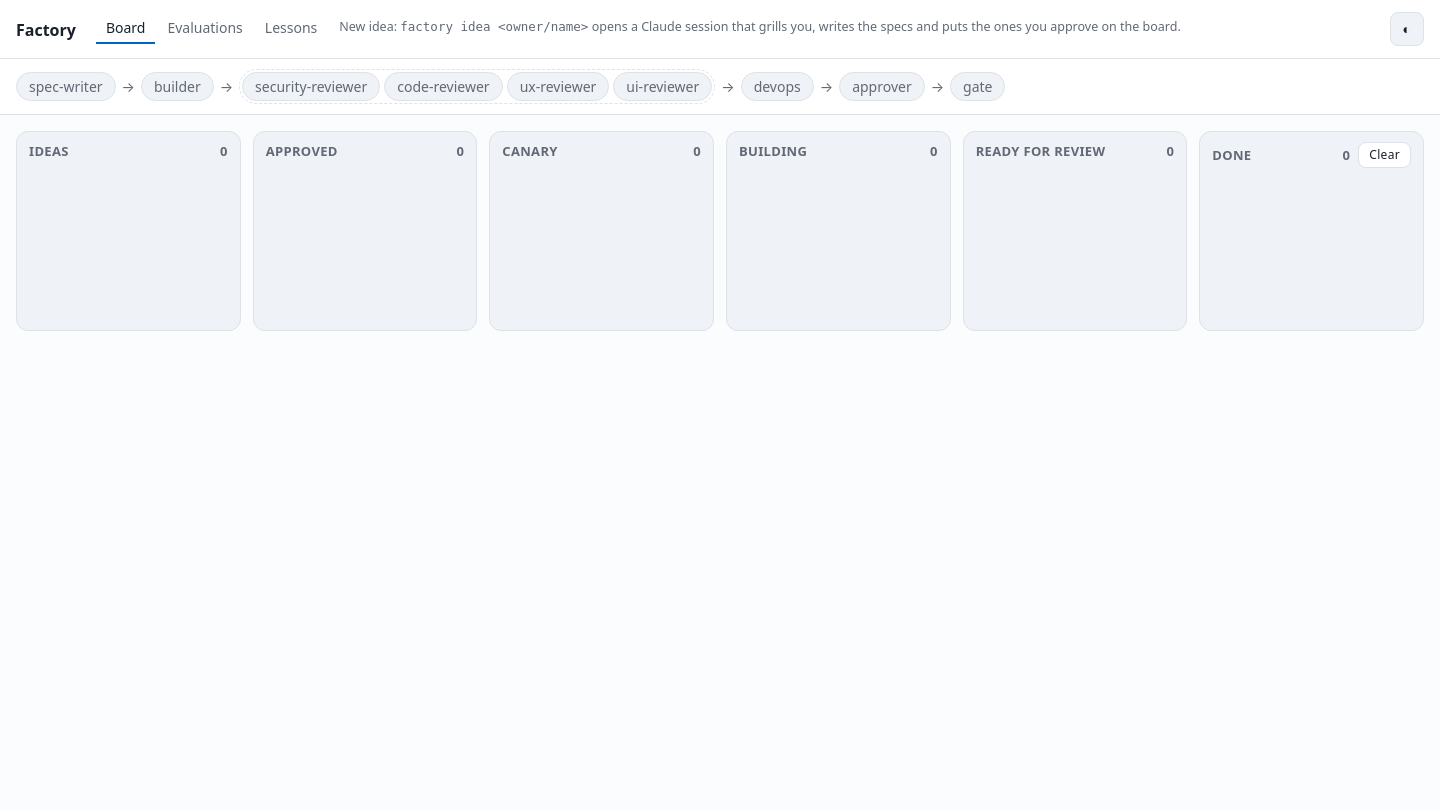
Test: card actions › Clear purges and says what it kept until evaluated
Click the button "Clear": (1385, 155) top-left (1358, 142), bottom-right (1411, 168)
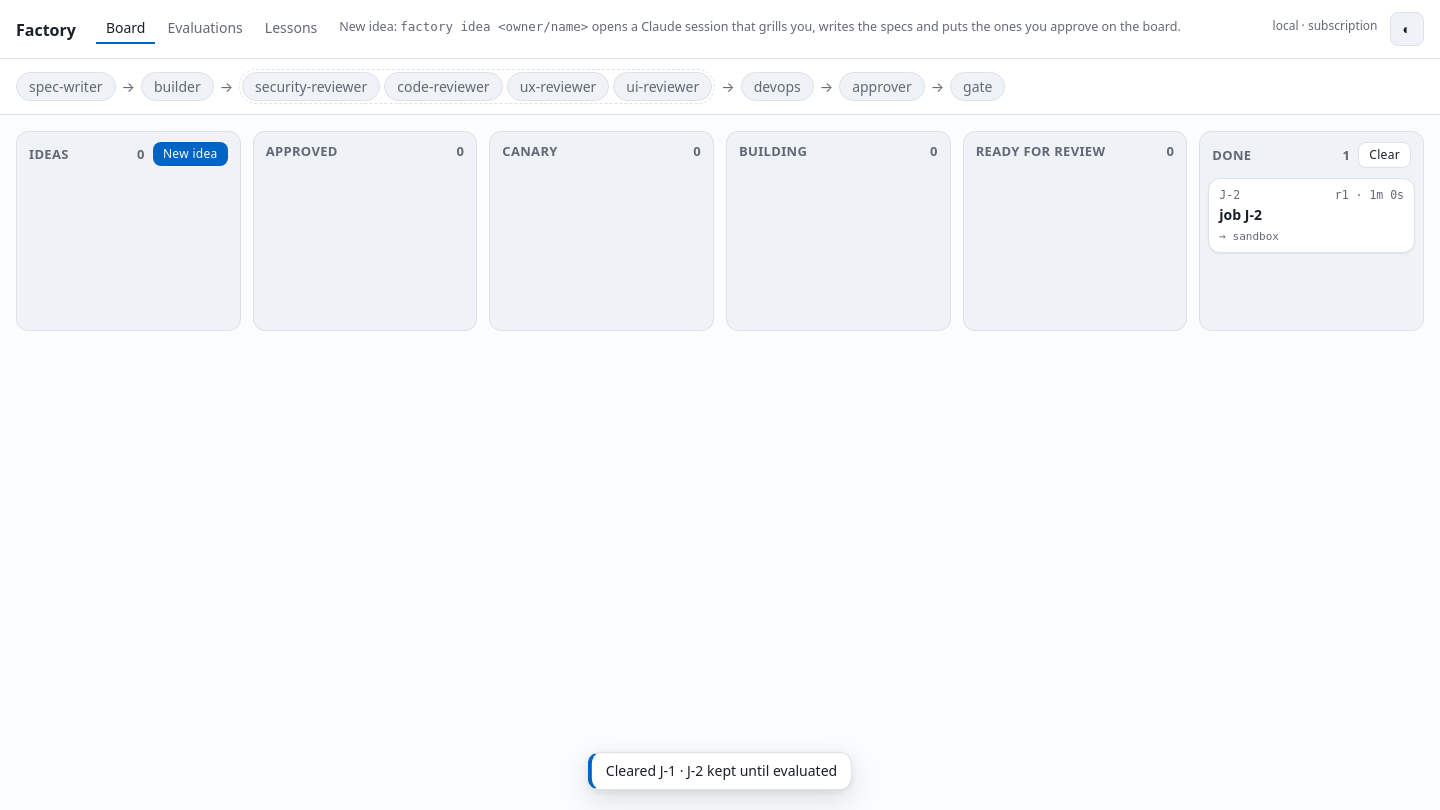
Expected: the message with id "toast" reads "Cleared J-1 · J-2 kept until evaluated", top-left (606, 761), bottom-right (837, 780)
